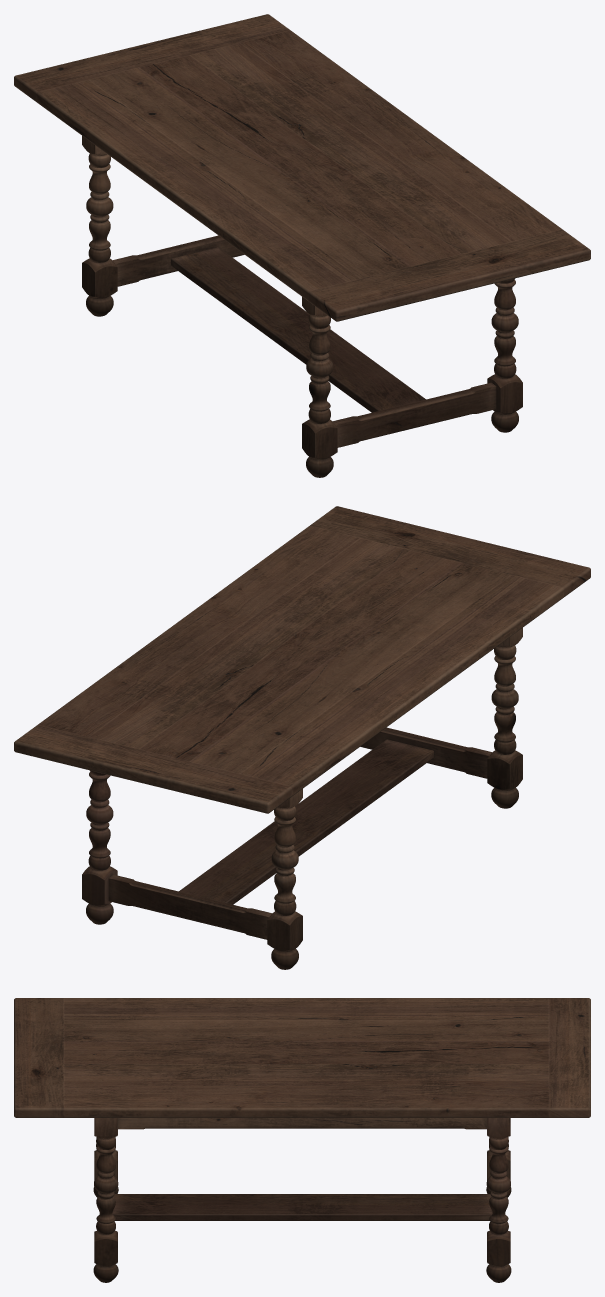
The model's file is table_5.glb.
The picture shows the model from 3 angles, top to bottom: view 1: azimuth 30°, elevation 25°; view 2: azimuth 150°, elevation 25°; view 3: azimuth 270°, elevation 25°; orthographic projection. The views are drawn at different scales.
Visible parts, largest first — view 1: Cube_1, Cube_2, Cube, Cube_2_2; view 2: Cube_1, Cube_2, Cube, Cube_2_2; view 3: Cube_1, Cube, Cube_2, Cube_1_3.
Part boxes in pixels (<box>): Cube_1: <box>14,14,590,321</box>; Cube_2: <box>82,136,522,477</box>; Cube: <box>171,247,425,412</box>; Cube_2_2: <box>113,235,496,447</box>; Cube_1: <box>14,506,590,813</box>; Cube_2: <box>82,628,522,969</box>; Cube: <box>179,739,433,904</box>; Cube_2_2: <box>108,727,491,939</box>; Cube_1: <box>14,998,590,1117</box>; Cube: <box>112,1194,492,1220</box>; Cube_2: <box>93,1118,511,1282</box>; Cube_1_3: <box>118,1118,486,1129</box>.
Size of the model in its own units: 4.81 by 3.77 by 10.53.
1 material, 1 textured.
